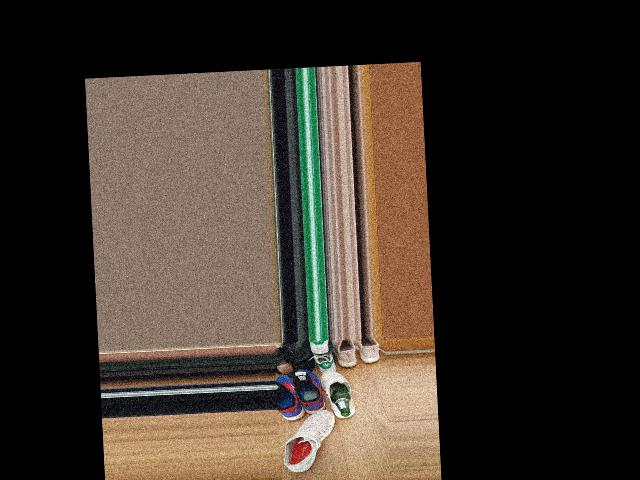beer: (329, 382, 352, 417)
